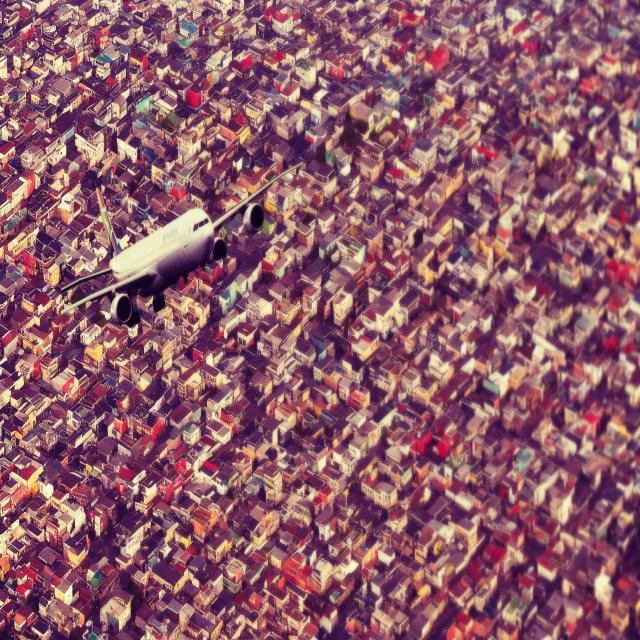airplane: (57, 158, 305, 326)
